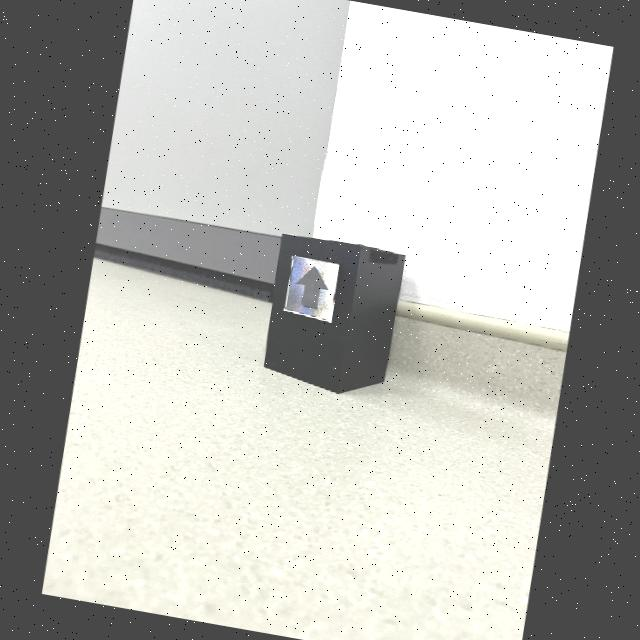UP: (294, 267, 326, 308)
